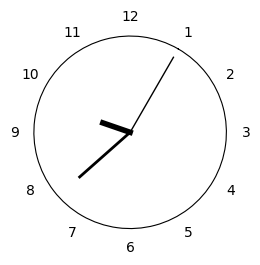12: (122, 9, 140, 23)
circle: (33, 36, 227, 229)
hours: (98, 119, 133, 135)
minutes: (78, 135, 129, 179)
seconds: (132, 56, 175, 129)
